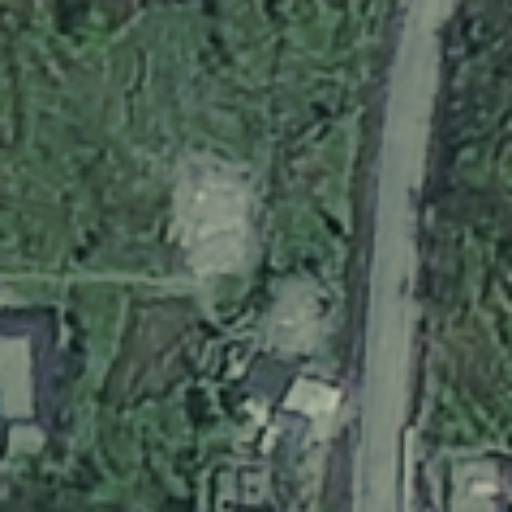landslide: (166, 146, 261, 278)
